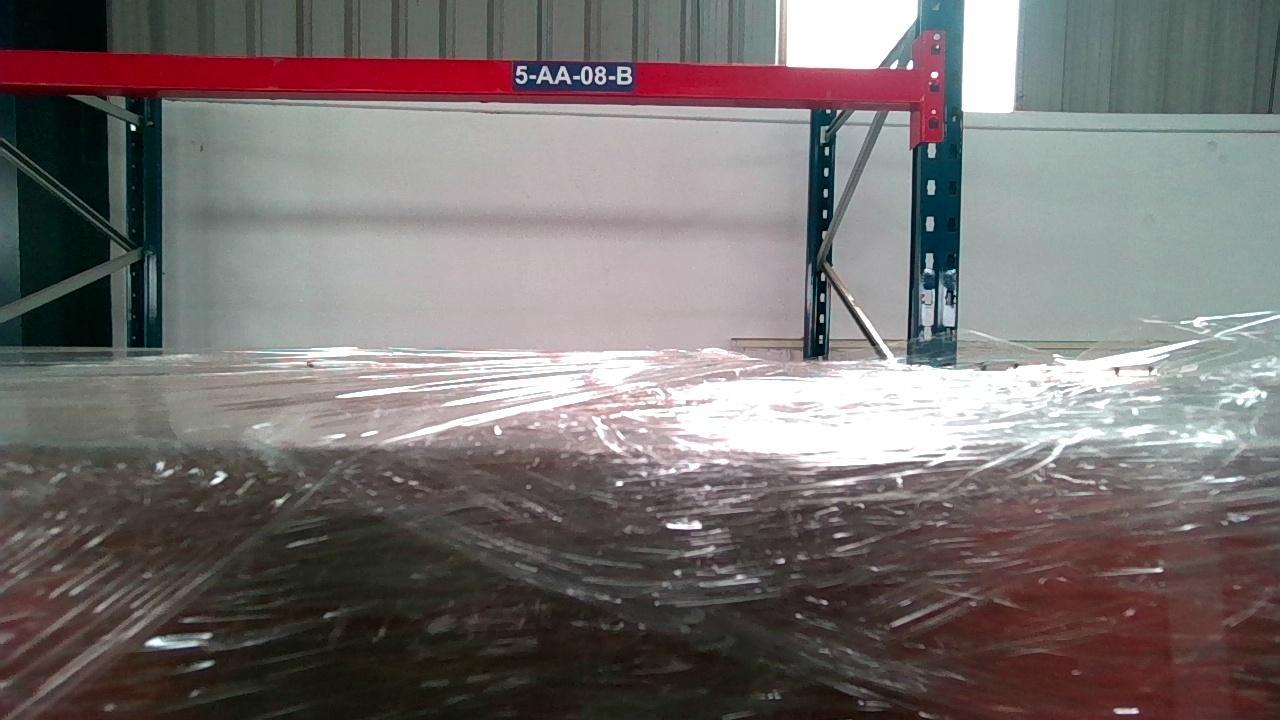h_rack: (0, 48, 925, 104)
